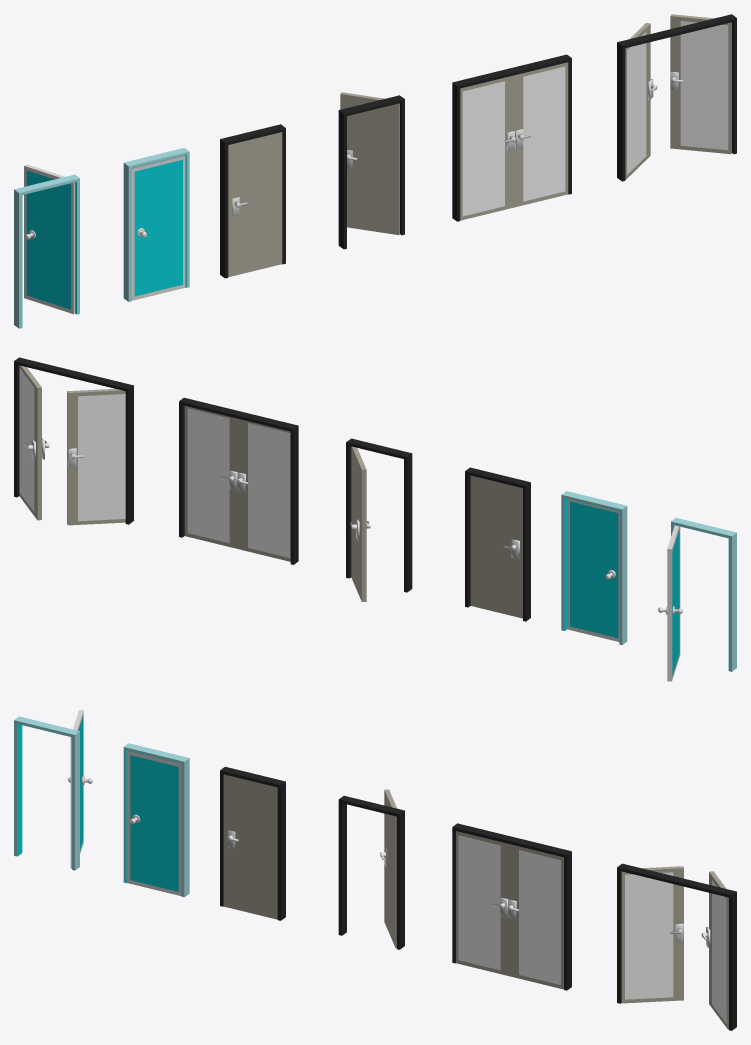
The model's file is doors.fbx.
The picture shows the model from 3 angles, top to bottom: view 1: azimuth 30°, elevation 25°; view 2: azimuth 150°, elevation 25°; view 3: azimuth 330°, elevation 25°; orthographic projection.
Parts seen in each view (by area): view 1: pintu masuk toko.002, Pintu wc.002, pintu kantor.001, pintu masuk toko, pintu masuk toko.001, pintu kantor, Pintu wc.003, pintu masuk toko.003, framepintu masuk toko.001, framepintu masuk toko, frame kantor.001, frame wc (+2 smaller); view 2: pintu masuk toko.003, pintu masuk toko, Pintu wc.002, pintu kantor.001, pintu masuk toko.001, pintu masuk toko.002, framepintu masuk toko, framepintu masuk toko.001, frame wc, frame kantor.001, frame kantor, pintu kantor (+2 smaller); view 3: pintu masuk toko.003, pintu masuk toko, pintu kantor.001, Pintu wc.002, pintu masuk toko.001, frame kantor.001, framepintu masuk toko.001, frame wc.001, pintu masuk toko.002, framepintu masuk toko, frame wc, frame kantor (+2 smaller).
Boxes of the visible parts, bbox=[...] form: pintu masuk toko.002: bbox=[670, 14, 731, 154]; Pintu wc.002: bbox=[131, 155, 185, 300]; pintu kantor.001: bbox=[228, 132, 282, 277]; pintu masuk toko: bbox=[514, 62, 568, 207]; pintu masuk toko.001: bbox=[460, 75, 516, 220]; pintu kantor: bbox=[340, 92, 399, 235]; Pintu wc.003: bbox=[24, 164, 75, 314]; pintu masuk toko.003: bbox=[625, 23, 657, 179]; framepintu masuk toko.001: bbox=[617, 14, 736, 181]; framepintu masuk toko: bbox=[452, 54, 571, 221]; frame kantor.001: bbox=[338, 95, 404, 249]; frame wc: bbox=[123, 148, 189, 301]; pintu masuk toko.003: bbox=[67, 389, 125, 525]; pintu masuk toko: bbox=[184, 406, 238, 549]; Pintu wc.002: bbox=[567, 499, 619, 641]; pintu kantor.001: bbox=[470, 475, 522, 618]; pintu masuk toko.001: bbox=[236, 419, 290, 561]; pintu masuk toko.002: bbox=[19, 365, 49, 520]; framepintu masuk toko: bbox=[179, 397, 298, 564]; framepintu masuk toko.001: bbox=[14, 357, 133, 524]; frame wc: bbox=[561, 491, 627, 644]; frame kantor.001: bbox=[346, 438, 412, 592]; frame kantor: bbox=[465, 467, 530, 621]; pintu kantor: bbox=[350, 446, 370, 601]; pintu masuk toko.003: bbox=[621, 866, 683, 1003]; pintu masuk toko: bbox=[507, 844, 563, 989]; pintu kantor.001: bbox=[223, 774, 277, 919]; Pintu wc.002: bbox=[127, 751, 181, 895]; pintu masuk toko.001: bbox=[456, 831, 509, 976]; frame kantor.001: bbox=[338, 795, 404, 949]; framepintu masuk toko.001: bbox=[617, 863, 736, 1030]; frame wc.001: bbox=[14, 716, 79, 870]; pintu masuk toko.002: bbox=[701, 871, 728, 1028]; framepintu masuk toko: bbox=[452, 823, 571, 990]; frame wc: bbox=[123, 743, 189, 897]; frame kantor: bbox=[220, 766, 285, 920].
Size of the model in its own units: 1361 by 246 by 116.
